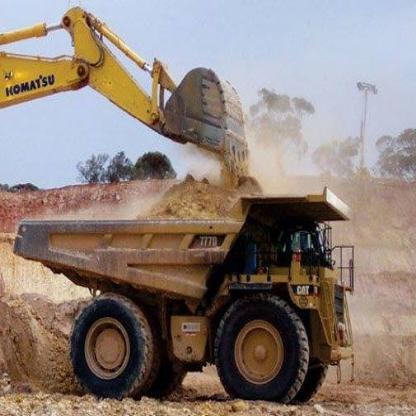dump_truck: (10, 176, 363, 408)
excavator: (0, 4, 254, 179)
